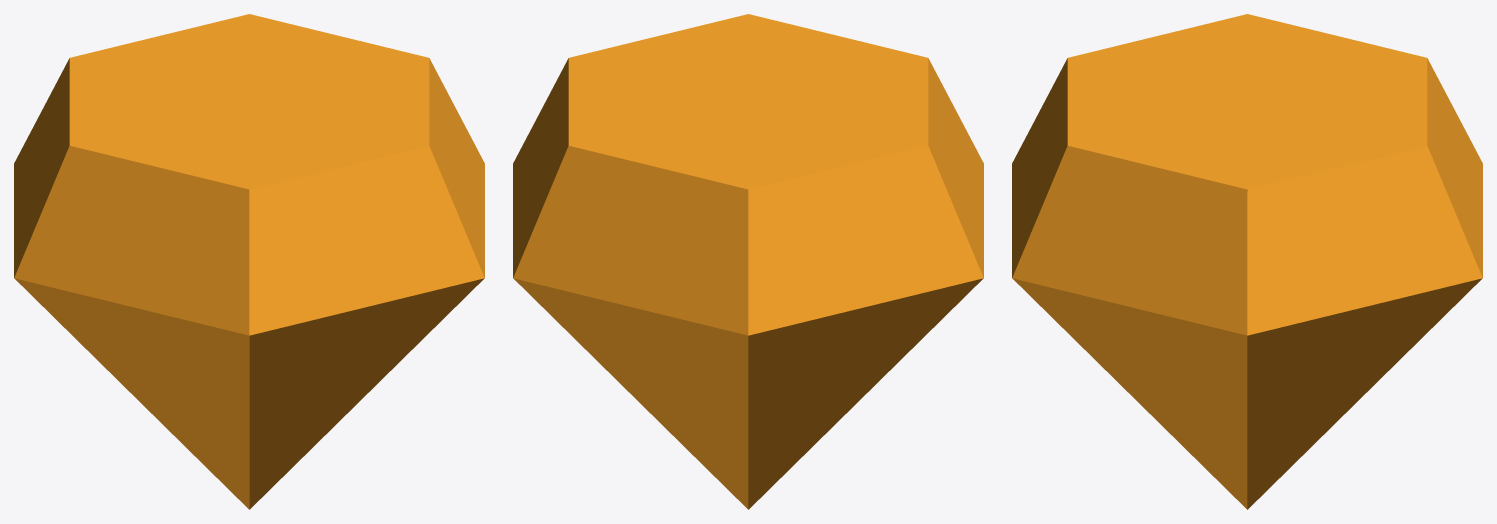
Rendered from SM_Icon_Gem_01.fbx.
The picture shows the model from 3 angles, left to right: view 1: azimuth 30°, elevation 25°; view 2: azimuth 150°, elevation 25°; view 3: azimuth 270°, elevation 25°; orthographic projection.
Visible parts, largest first — view 1: SM_Icon_Gem_01; view 2: SM_Icon_Gem_01; view 3: SM_Icon_Gem_01.
Part boxes in pixels (x1,y1,x2,y2): SM_Icon_Gem_01: [14, 14, 484, 509]; SM_Icon_Gem_01: [513, 14, 983, 509]; SM_Icon_Gem_01: [1012, 14, 1482, 509].
Bounding box in the file's own units: 52.87 × 43.81 × 45.78.
